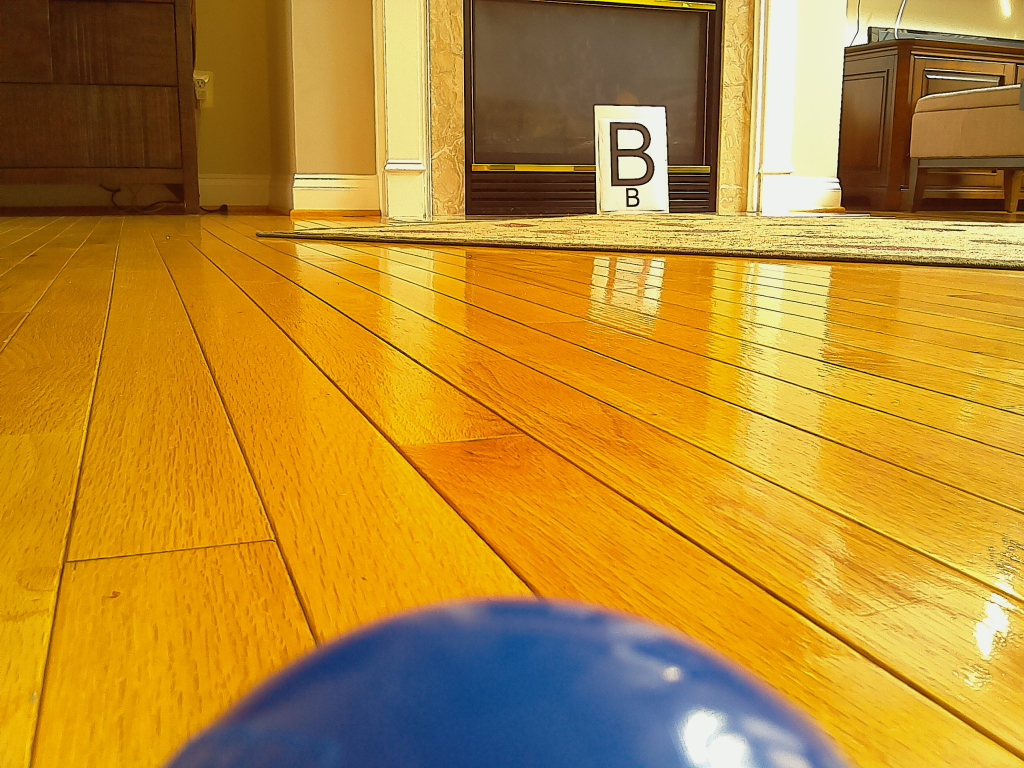letter: (612, 123, 655, 185)
